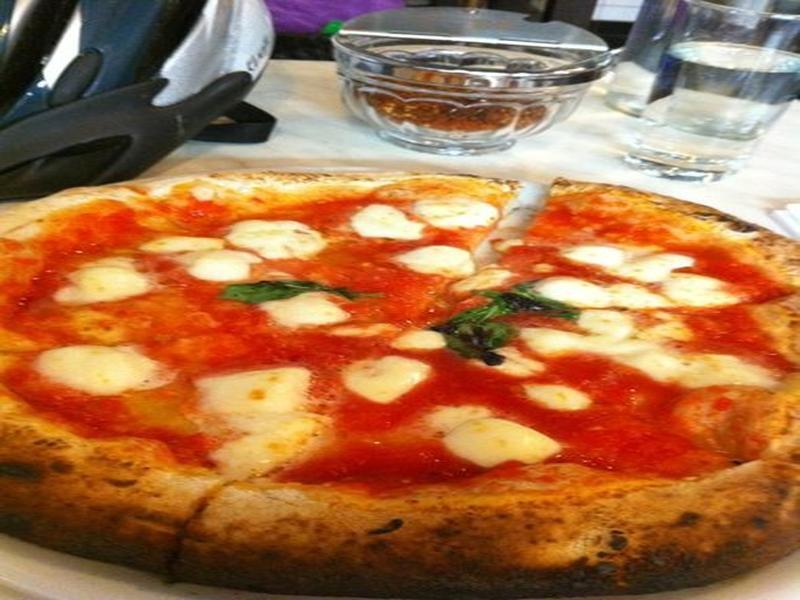pizza: (18, 68, 800, 585)
